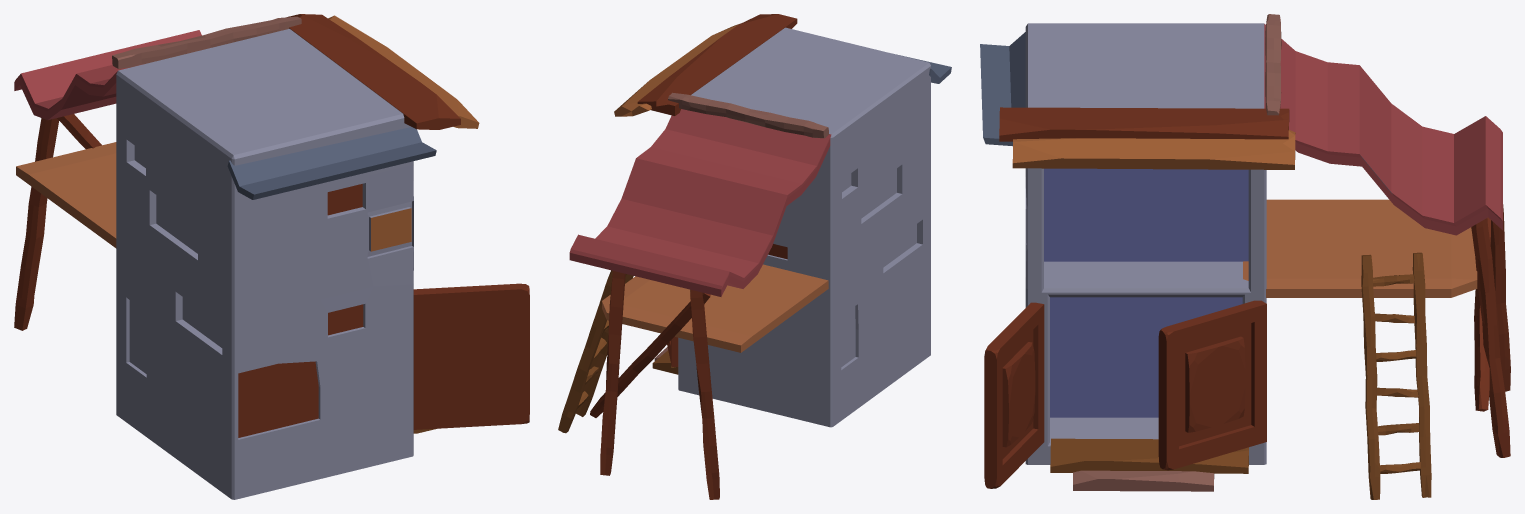
The model's file is _ouse3.fbx.
3 renders of one model, left to right at view 1: azimuth 30°, elevation 25°; view 2: azimuth 150°, elevation 25°; view 3: azimuth 270°, elevation 25°, orthographic. The views are drawn at different scales.
Visible parts, largest first — view 1: Cube.017; view 2: Cube.017; view 3: Cube.017.
Part boxes in pixels (x1,y1,x2,y2): Cube.017: [14, 14, 529, 499]; Cube.017: [558, 14, 951, 499]; Cube.017: [980, 14, 1510, 499].
Size of the model in its own units: 439 by 537 by 698.
